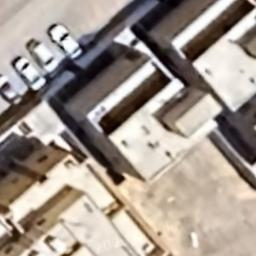SUV: (26, 41, 58, 73)
sedan: (46, 22, 84, 58), (12, 58, 47, 90), (0, 72, 23, 106)
